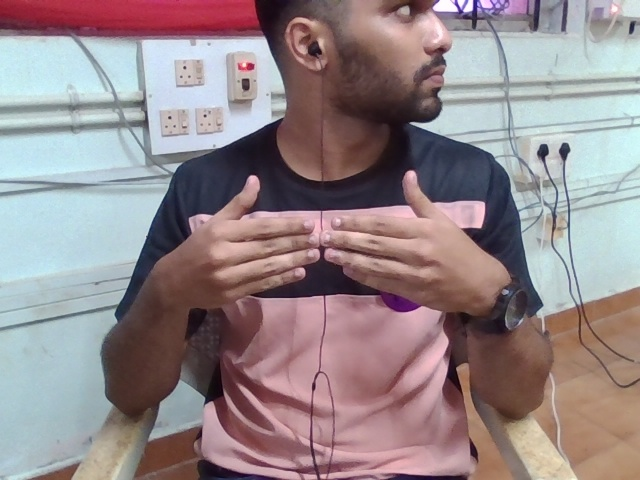more: (187, 162, 472, 347)
